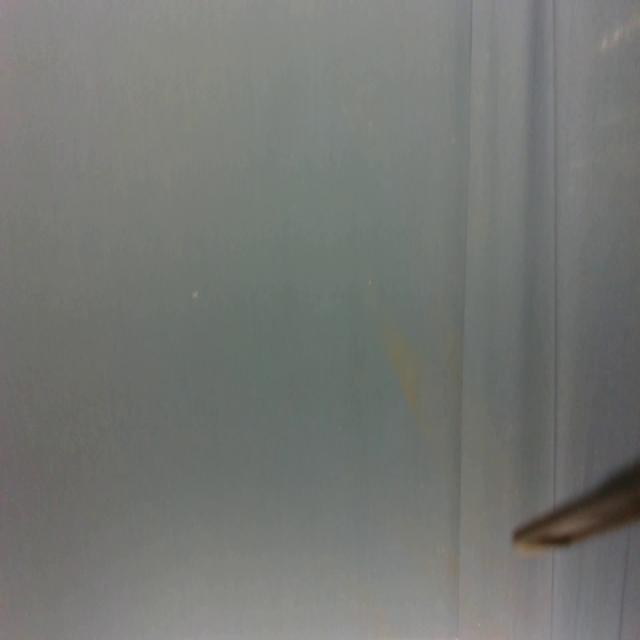crease: (454, 0, 475, 636), (551, 0, 560, 503), (616, 528, 632, 639), (546, 553, 556, 640)
hole: (190, 290, 200, 303)
